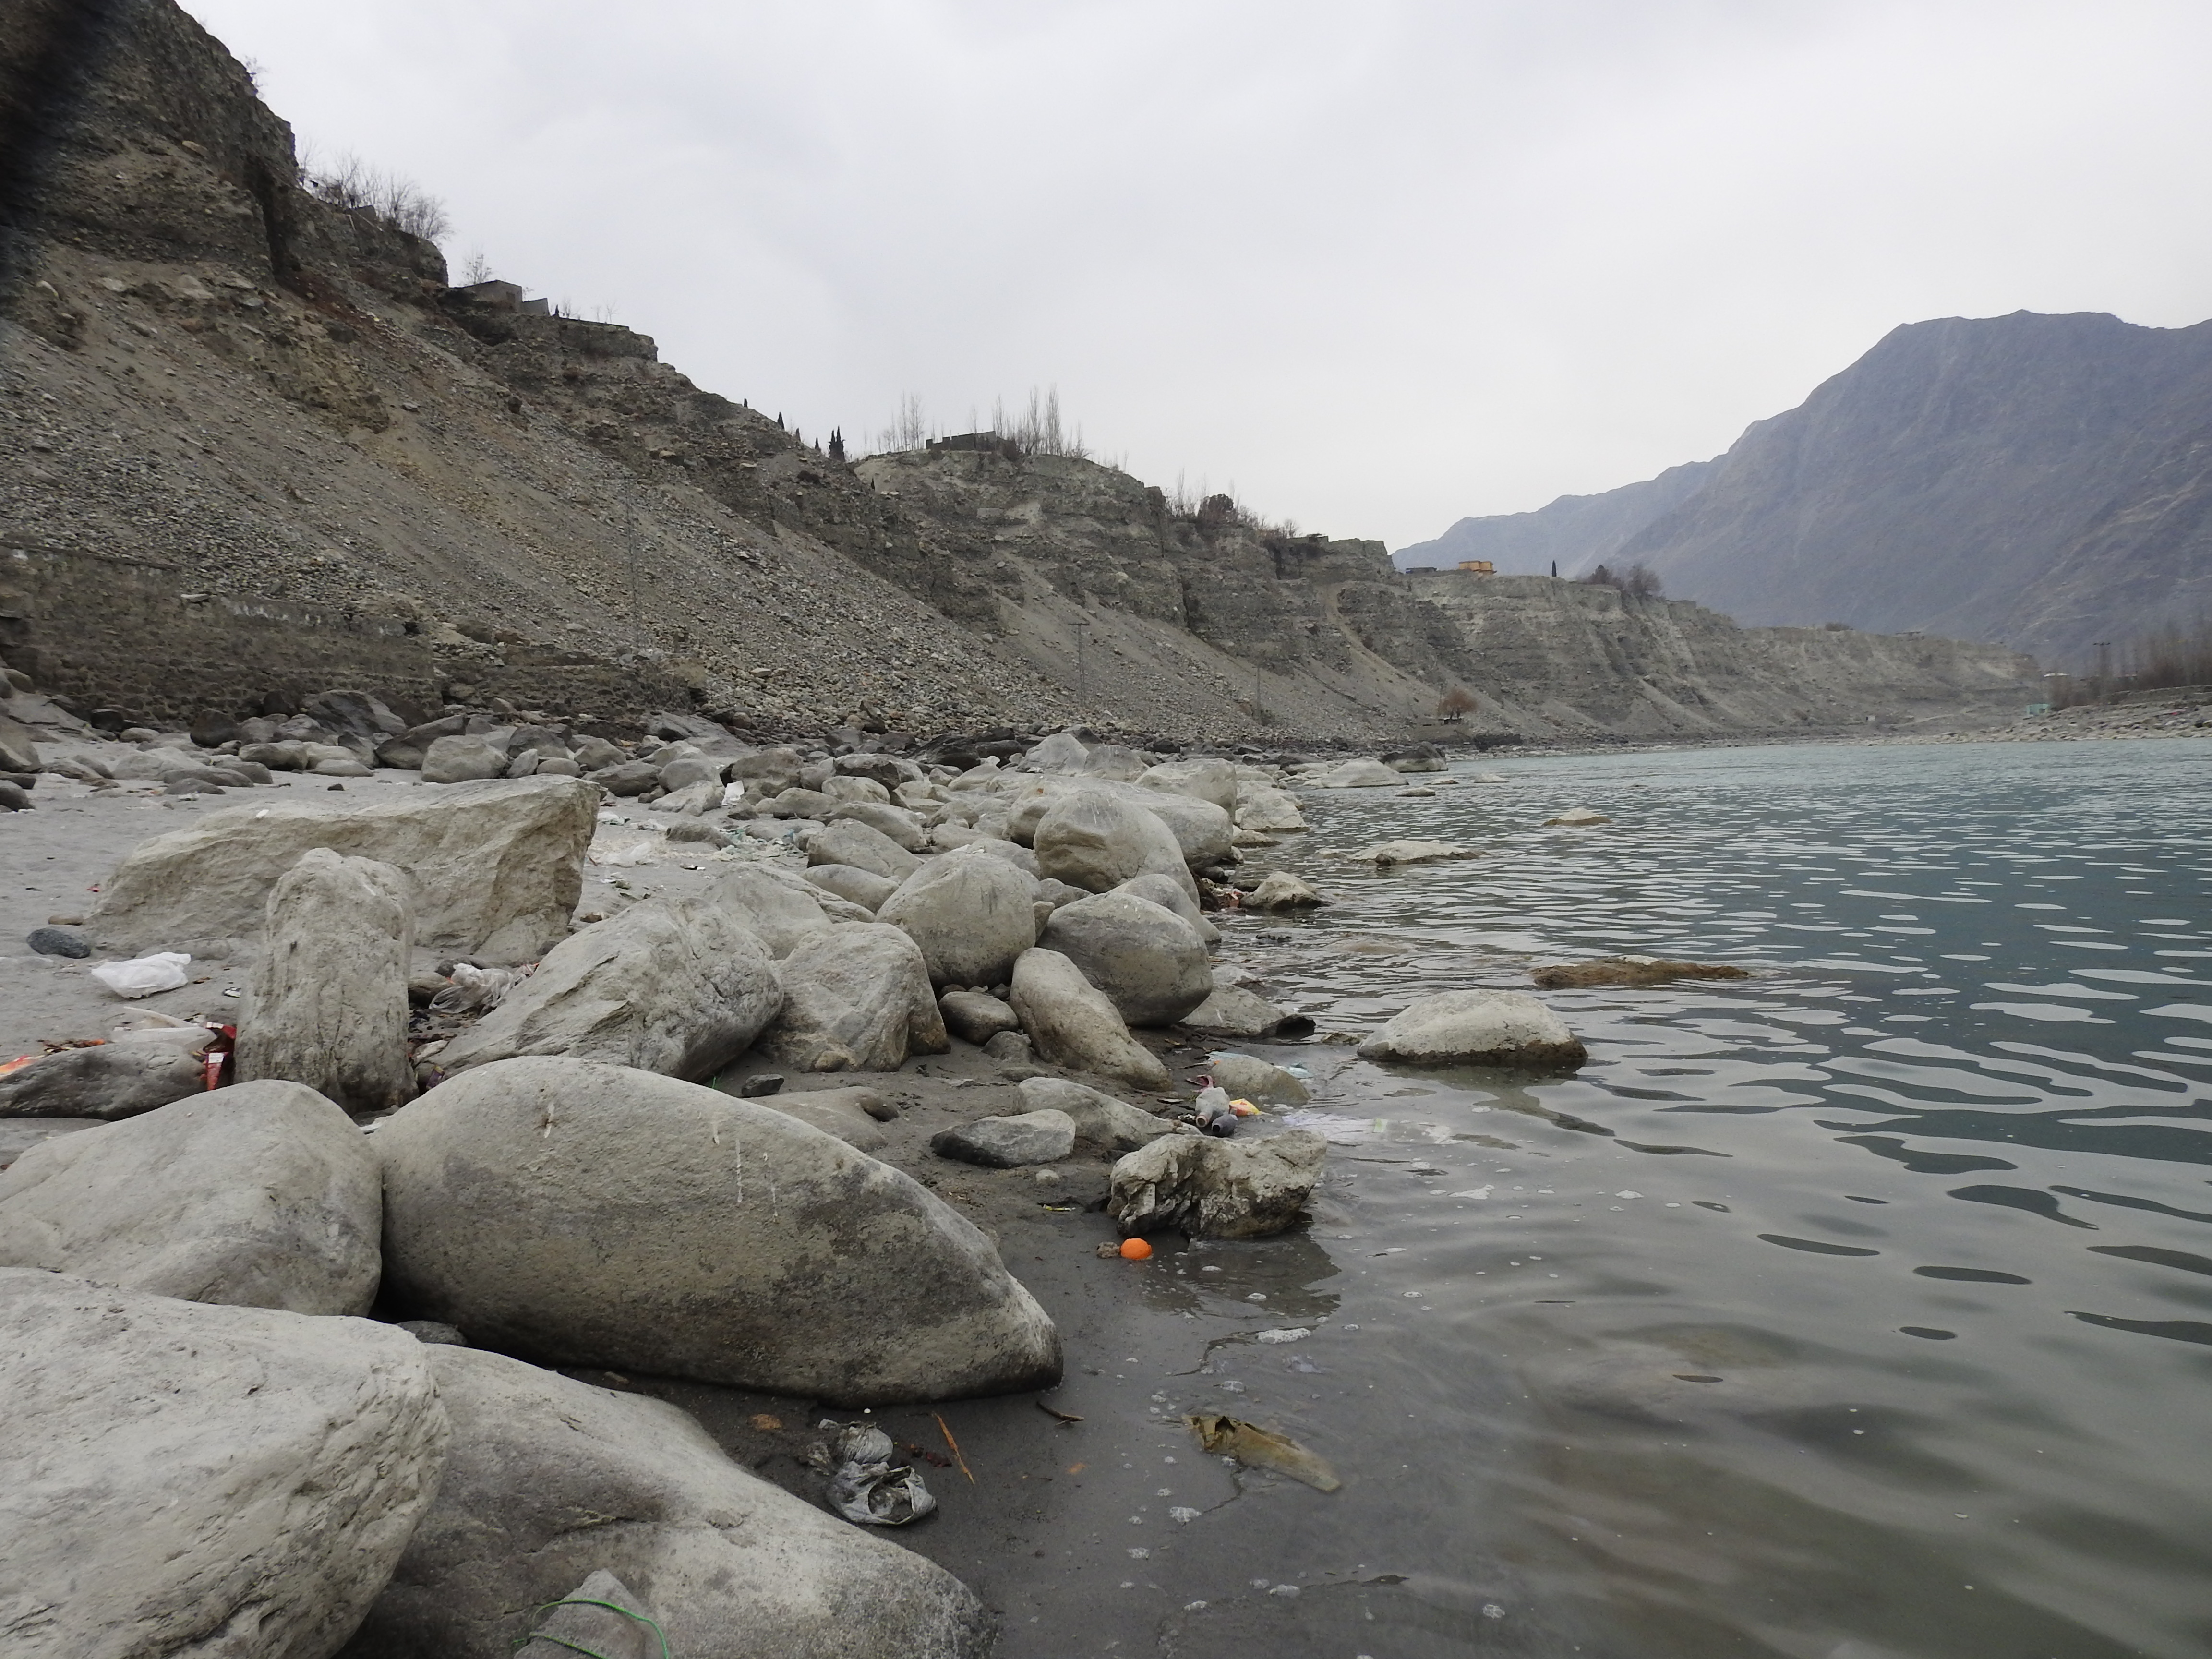Plastic Bottle: (1195, 1086, 1230, 1126), (1212, 1114, 1237, 1136)
